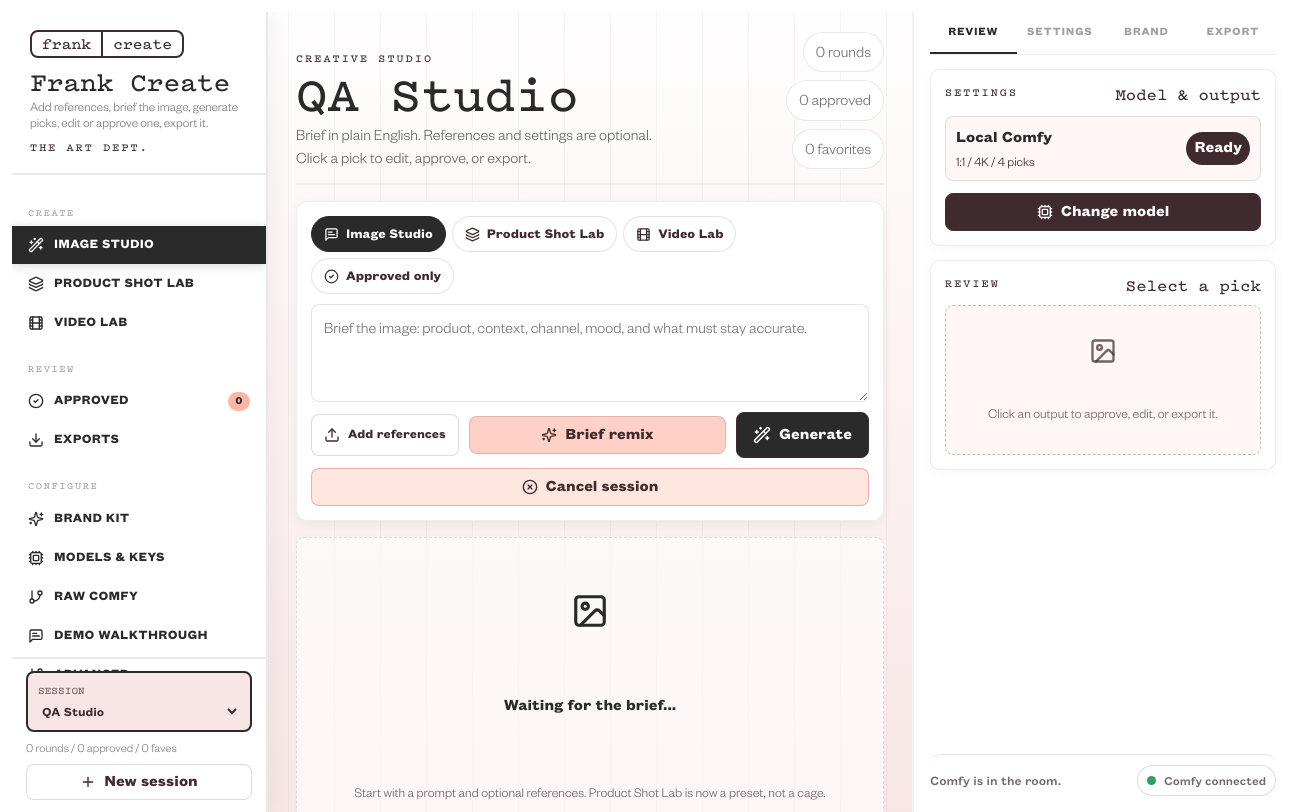
App › shows blocked provider key details inside the turn card
The width and height of the screenshot is (1292, 812).
Expected: the text "Comfy connected" is shown, [1137,764,1276,796]
Click the button "Change model" at x=1103, y=212, box [945,193,1261,231]
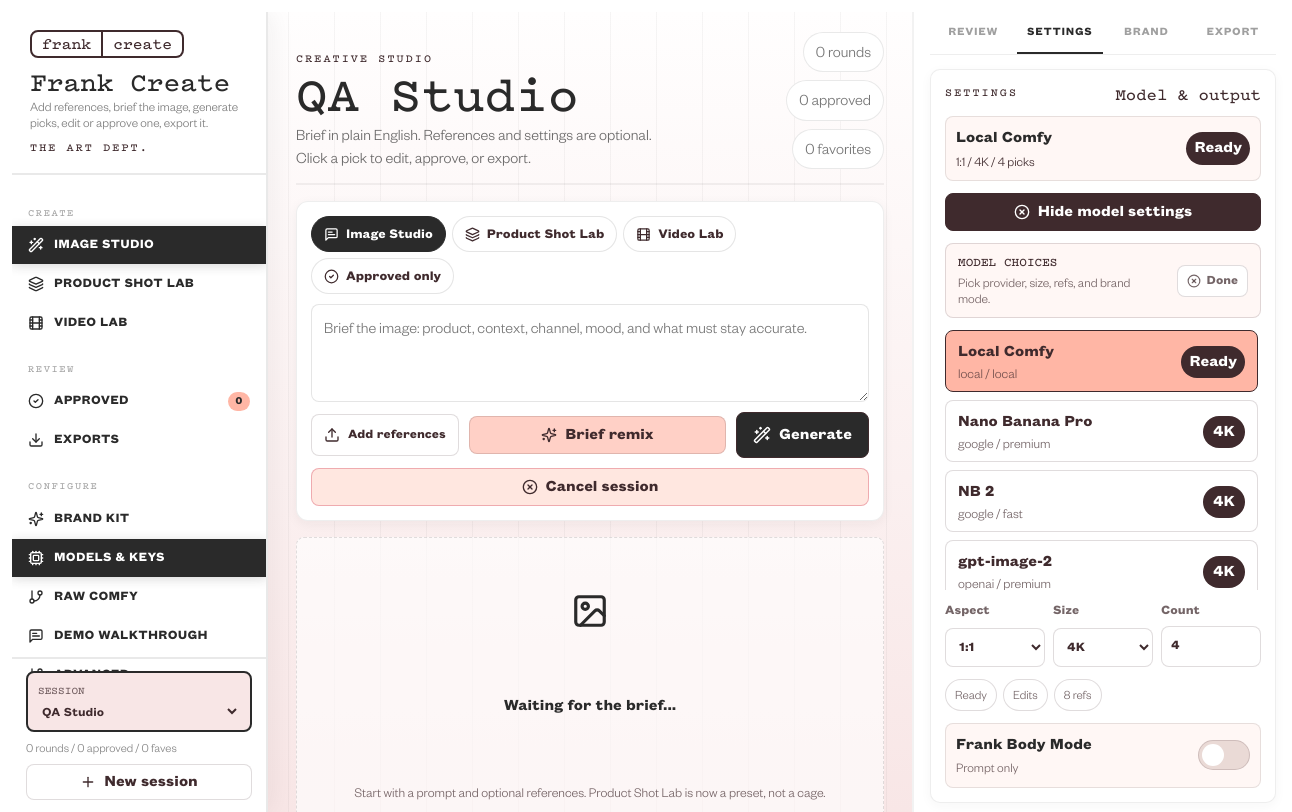
Click the button "gpt-image-2 openai / premium 4K" at x=1005, y=562, box [945,540,1258,602]
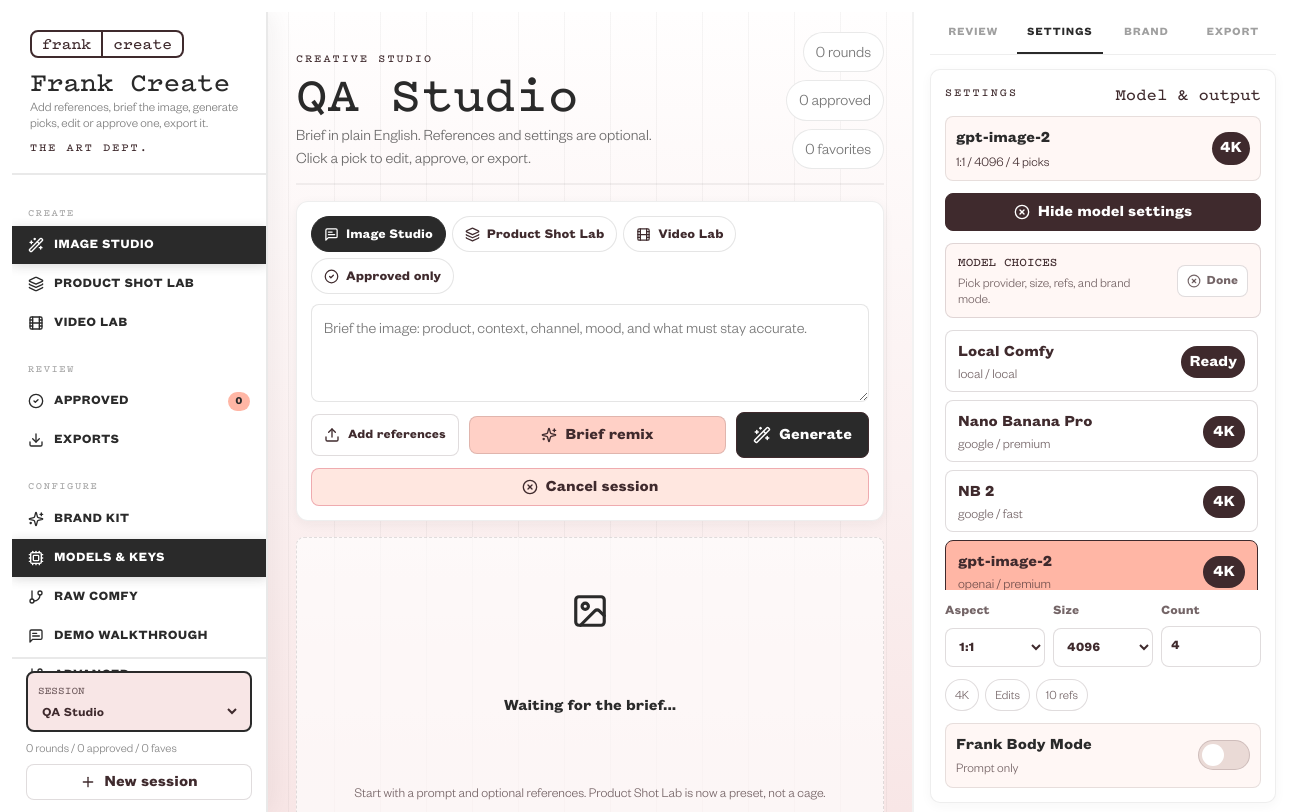
Replace the text in the text box with placeholder "Brief the image" with "Make a clean PDP image." at x=590, y=353, box [311,304,869,402]
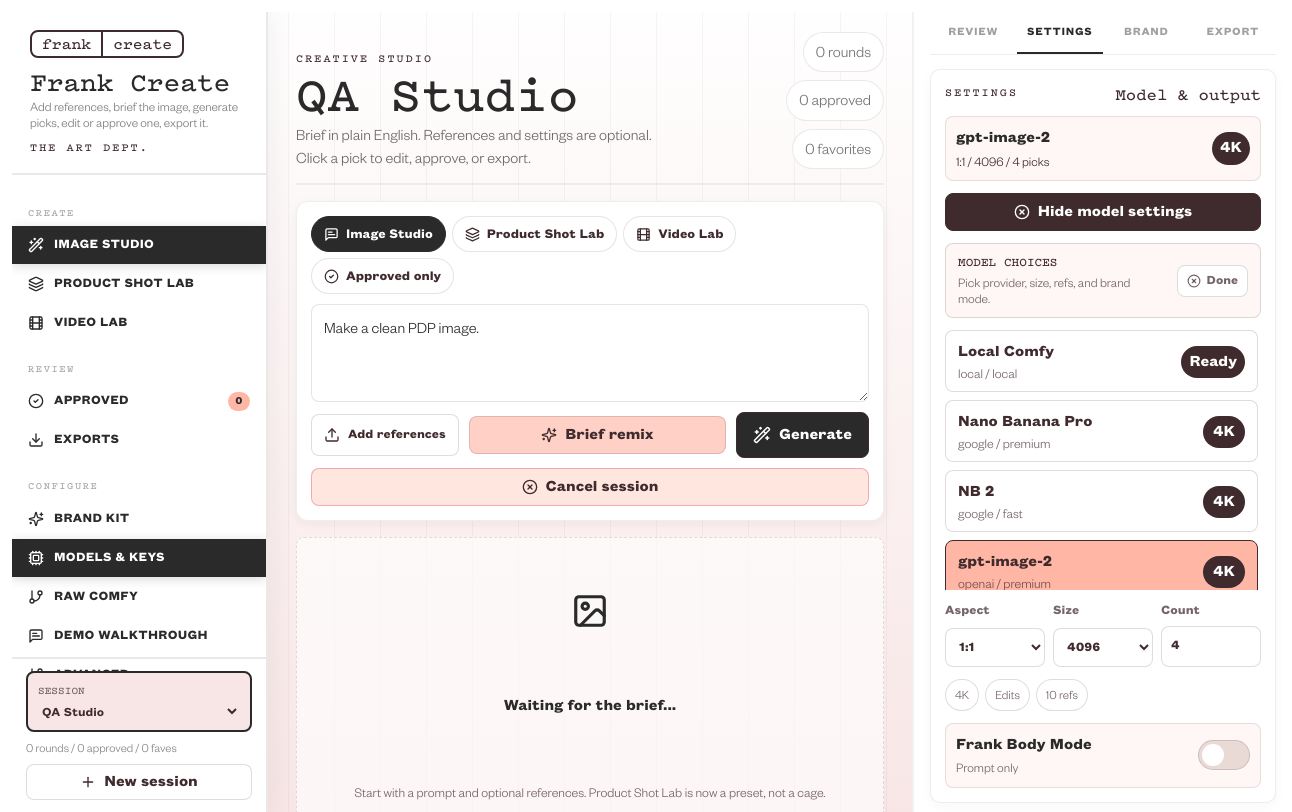
Click the button "Generate" at x=803, y=435, box [736,412,869,458]
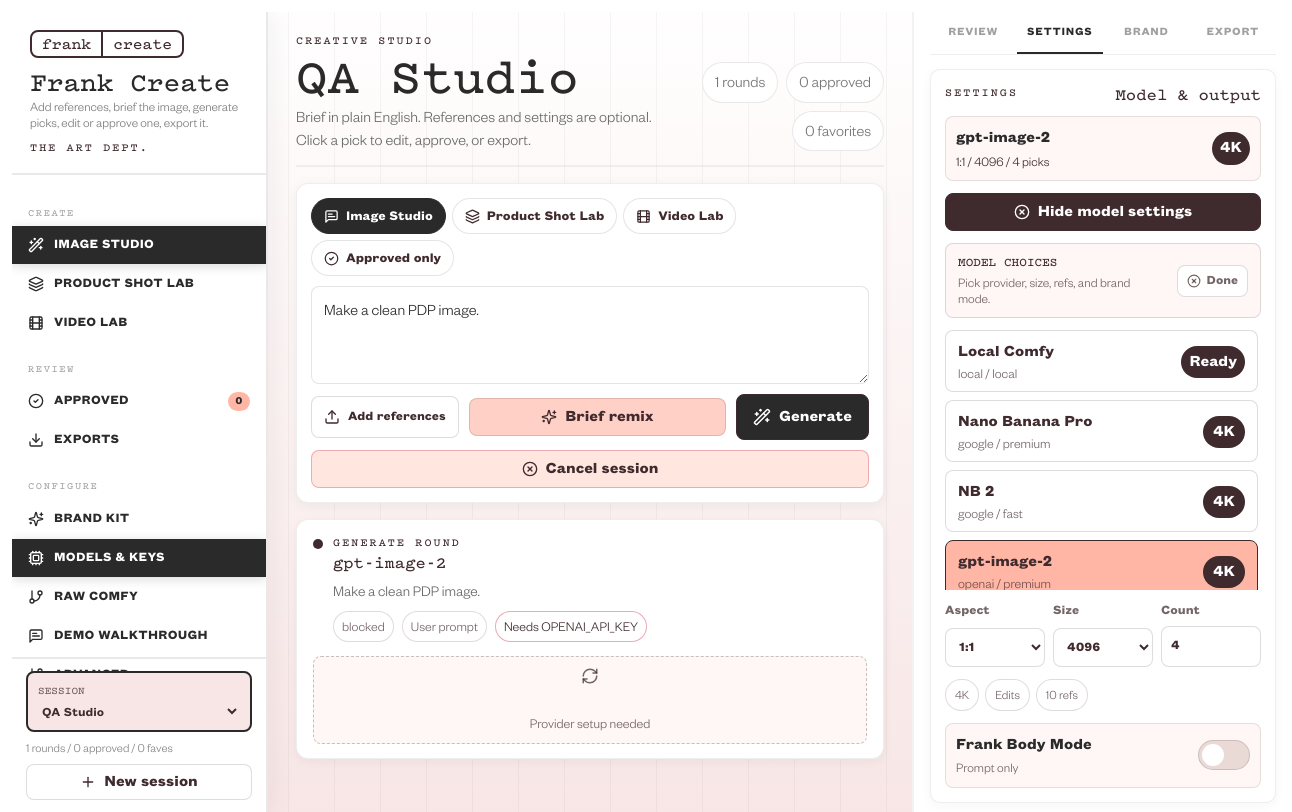
Now the text "blocked" is shown, box [333,611,394,642]
Now the element with class "turn-card" is shown, box [296,519,884,759]
Now the text "Needs OPENAI_API_KEY" is shown, box [495,611,647,642]
